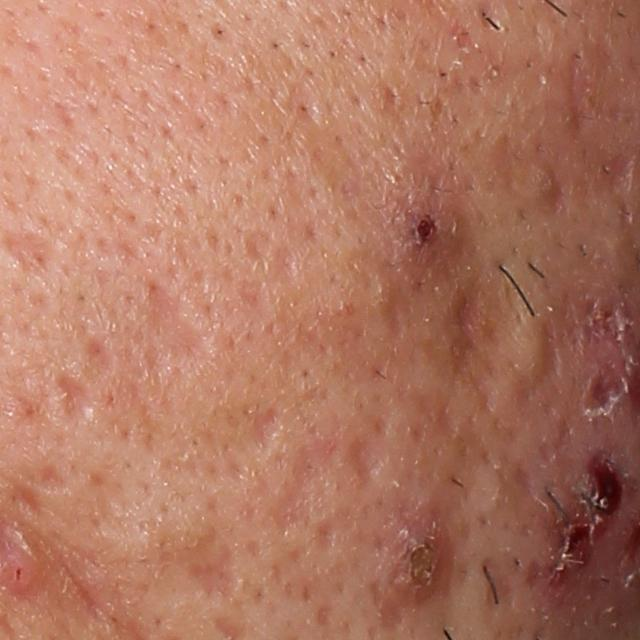atrophic_scar: (416, 265, 533, 404), (131, 269, 210, 383), (269, 430, 350, 538), (559, 32, 608, 153), (1, 229, 69, 296), (187, 540, 240, 603), (250, 393, 288, 461), (58, 370, 97, 436), (342, 434, 387, 488), (82, 328, 117, 381), (534, 165, 571, 212), (604, 151, 635, 187), (35, 463, 68, 495)
papule: (377, 509, 447, 606), (396, 185, 460, 263)
